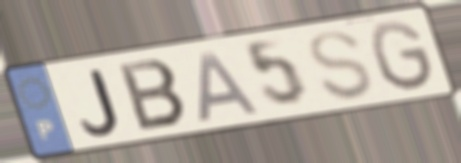5: (239, 34, 315, 114)
A: (195, 47, 264, 125)
B: (115, 57, 192, 134)
G: (367, 18, 439, 94)
J: (78, 67, 123, 138)
S: (307, 28, 376, 103)
